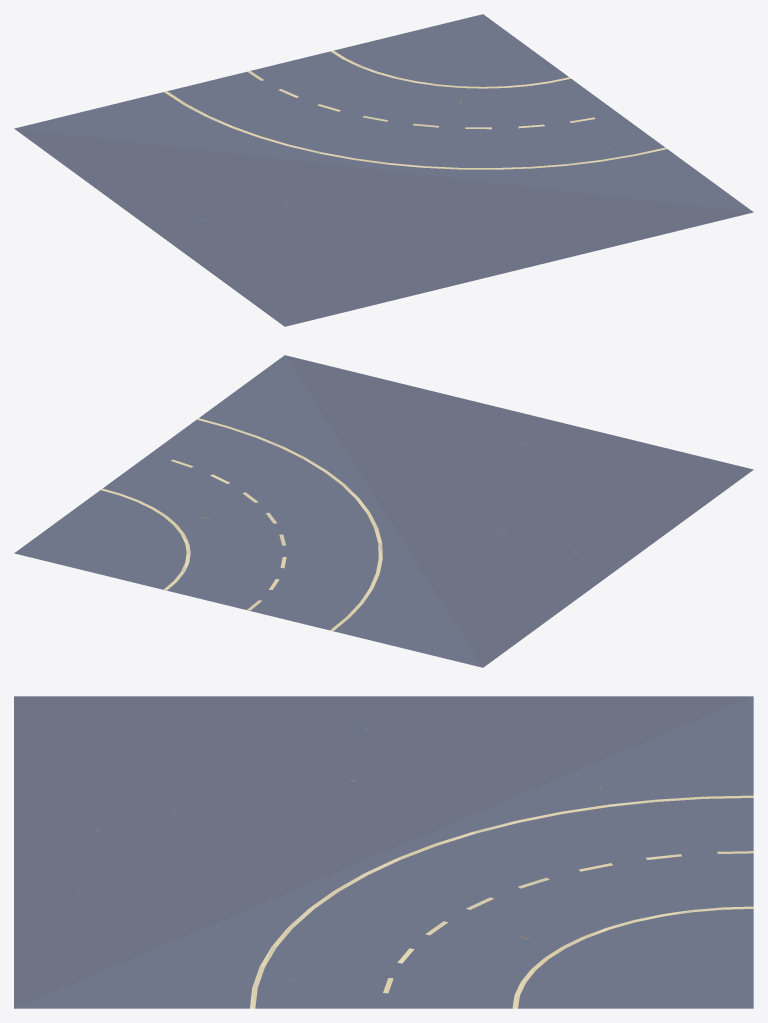
File: HK_RoadSurf_Turn.lod.glb
3 views of the same model, one above another, from view 1: azimuth 30°, elevation 25°; view 2: azimuth 150°, elevation 25°; view 3: azimuth 270°, elevation 25° (orthographic). The views are drawn at different scales.
Parts seen in each view (by area): view 1: HK_RoadSurf_Turn; view 2: HK_RoadSurf_Turn; view 3: HK_RoadSurf_Turn.
Boxes of the visible parts, x1,y1,x2,y2 form: HK_RoadSurf_Turn: (14, 14, 753, 326); HK_RoadSurf_Turn: (14, 355, 753, 667); HK_RoadSurf_Turn: (14, 696, 753, 1008).
Bounding box in the file's own units: 20 × 0.0143 × 20.
